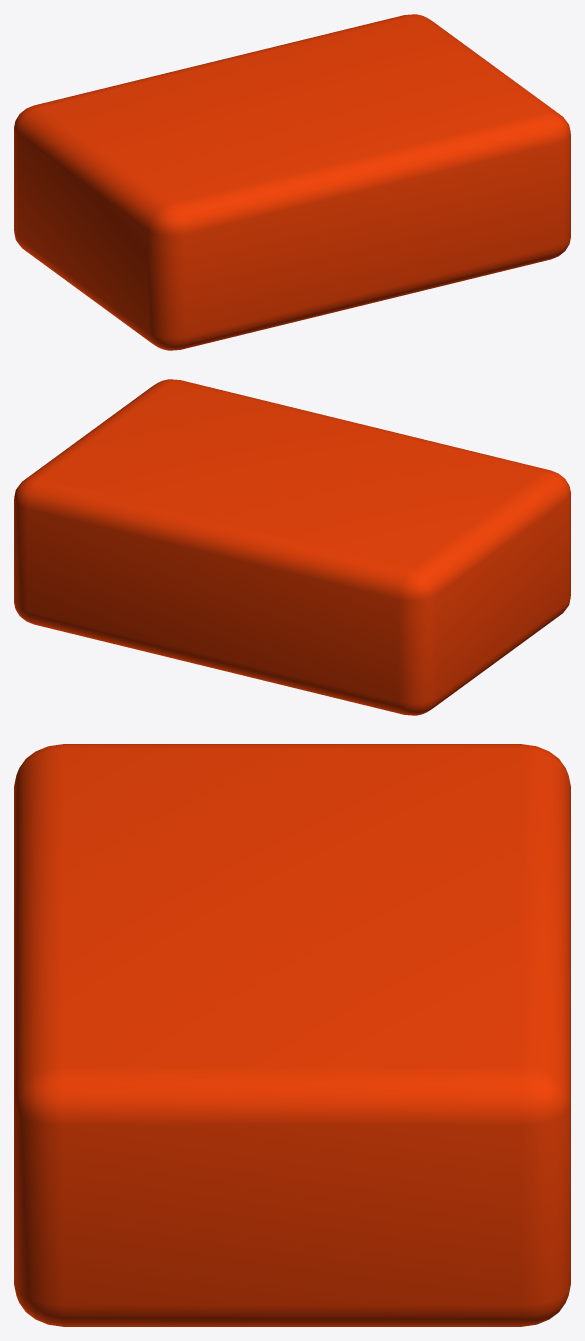
File: guzikD.fbx
3 views of the same model, one above another, from view 1: azimuth 30°, elevation 25°; view 2: azimuth 150°, elevation 25°; view 3: azimuth 270°, elevation 25° (orthographic). The views are drawn at different scales.
Visible parts, largest first — view 1: Cube.022; view 2: Cube.022; view 3: Cube.022.
Part boxes in pixels (box(x1,y1,x2,y2)): Cube.022: box(14, 14, 570, 350); Cube.022: box(14, 379, 570, 715); Cube.022: box(14, 744, 570, 1326).
Bounding box in the file's own units: 42.45 × 64.84 × 21.41.
